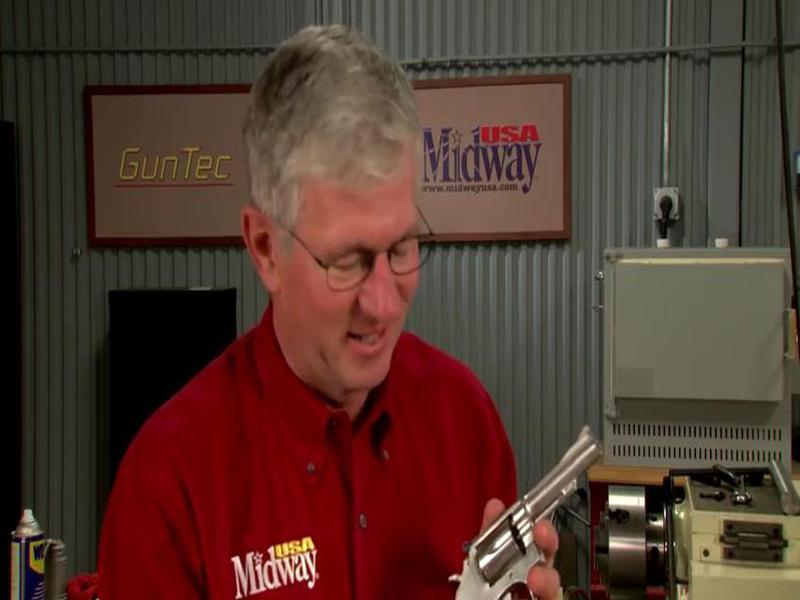Revolver: (426, 416, 603, 599)
